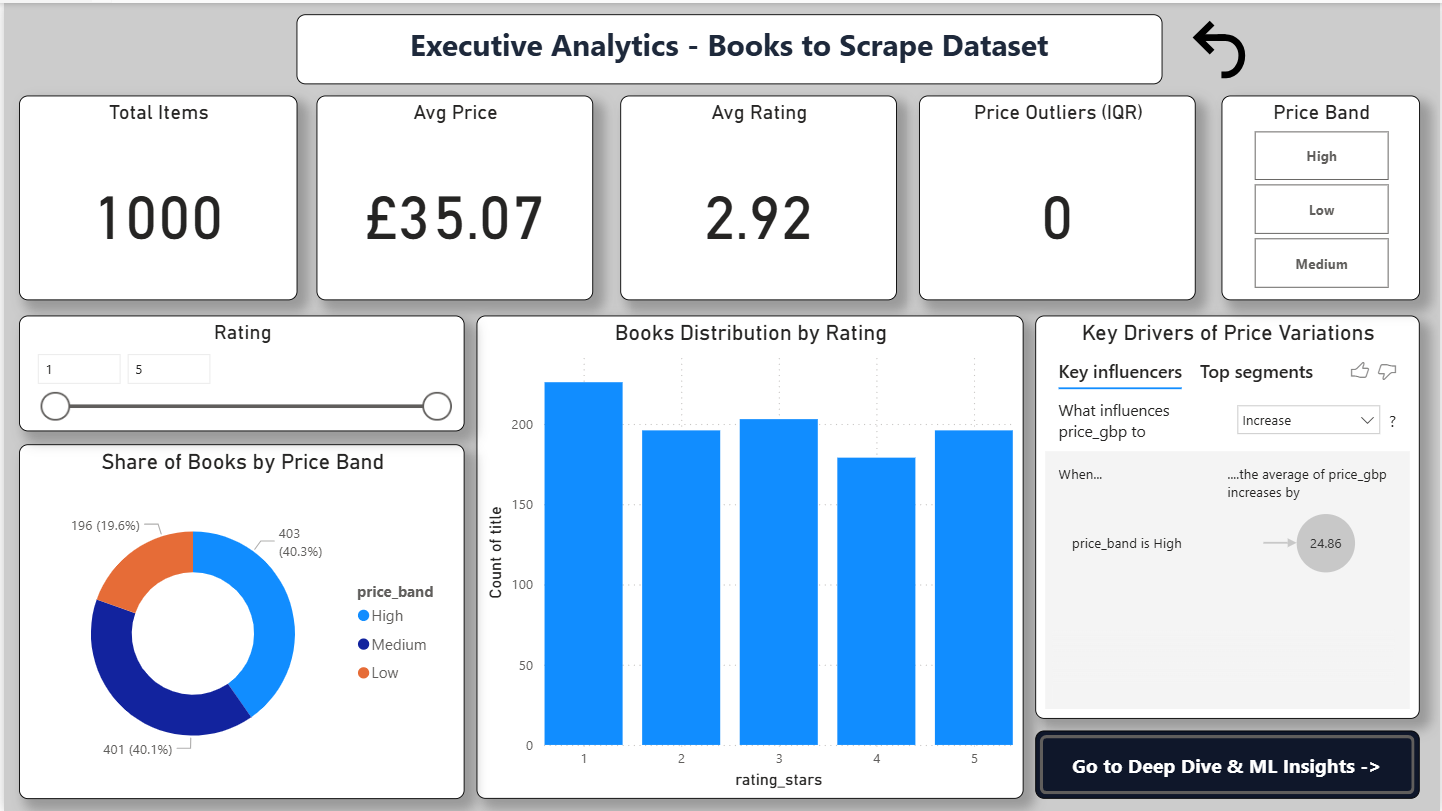

The page's visual inventory and layout, read from the dashboard file:
{"tool":"powerbi","page":{"name":"Executive Overview","canvas":[1280,720],"ordinal":0},"visuals":[{"type":"textbox","box":[260.9,10.1,771,62.3],"z":0},{"type":"card","title":"Total Items","fields":{"Values":["CountNonNull(clean_books_data.title)"]},"box":[13,82.6,247.8,182.6],"z":1000},{"type":"card","title":"Avg Price","fields":{"Values":["Avg(clean_books_data.price_gbp)"]},"box":[278.3,82.6,246.4,182.6],"z":2000},{"type":"card","title":"Avg Rating","fields":{"Values":["Avg(clean_books_data.rating_stars)"]},"box":[549.3,82.6,246.4,182.6],"z":3000},{"type":"card","title":"Price Outliers (IQR)","fields":{"Values":["clean_books_data.Price Outliers Count"]},"box":[814.5,82.6,246.4,182.6],"z":4000},{"type":"columnChart","title":"Books Distribution by Rating","fields":{"Category":["clean_books_data.rating_stars"],"Y":["CountNonNull(clean_books_data.title)"]},"box":[420.3,278.3,487,430.4],"z":5000},{"type":"donutChart","title":"Share of Books by Price Band","fields":{"Category":["clean_books_data.price_band"],"Y":["CountNonNull(clean_books_data.title)"]},"box":[13,392.8,397.1,315.9],"z":6000},{"type":"keyDriversVisual","title":"Key Drivers of Price Variations","fields":{"Target":["clean_books_data.price_gbp"],"ExplainBy":["clean_books_data.rating_stars","clean_books_data.price_band","clean_books_data.stock_status"]},"box":[918.8,278.3,342,359.4],"z":7000},{"type":"slicer","title":"Price Band","fields":{"Values":["clean_books_data.price_band"]},"box":[1084.1,82.6,176.8,182.6],"z":8000},{"type":"slicer","title":"Rating","fields":{"Values":["clean_books_data.rating_stars"]},"box":[13,278.3,397.1,102.9],"z":9000},{"type":"actionButton","box":[1039.1,10.1,88.4,62.3],"z":10000},{"type":"actionButton","box":[918.8,647.8,342,60.9],"z":11000}]}

Visuals, with their boxes in screenshot pixels (x1, y1, x2, y2), scaled from the page's 1280x720 canvas onto the 1442x811 screenshot:
textbox: box(294, 11, 1162, 82)
"Total Items" card: box(15, 93, 294, 299)
"Avg Price" card: box(314, 93, 591, 299)
"Avg Rating" card: box(619, 93, 896, 299)
"Price Outliers (IQR)" card: box(918, 93, 1195, 299)
"Books Distribution by Rating" columnChart: box(473, 313, 1022, 798)
"Share of Books by Price Band" donutChart: box(15, 442, 462, 798)
"Key Drivers of Price Variations" keyDriversVisual: box(1035, 313, 1420, 718)
"Price Band" slicer: box(1221, 93, 1420, 299)
"Rating" slicer: box(15, 313, 462, 429)
actionButton: box(1171, 11, 1270, 82)
actionButton: box(1035, 730, 1420, 798)
